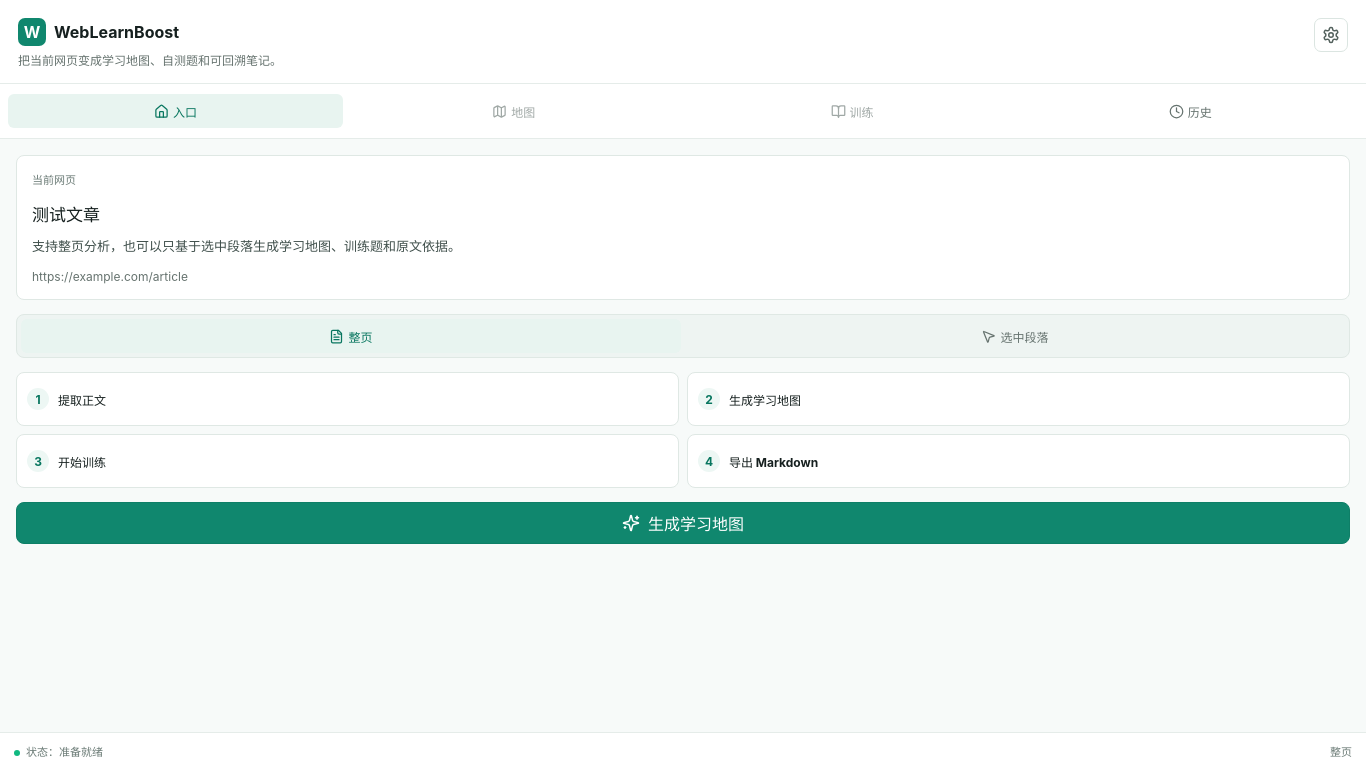
AppView learning flow › deletes a single history version
The width and height of the screenshot is (1366, 768).
Click the button "历史" at (1190, 111), box [1023,94,1358,128]
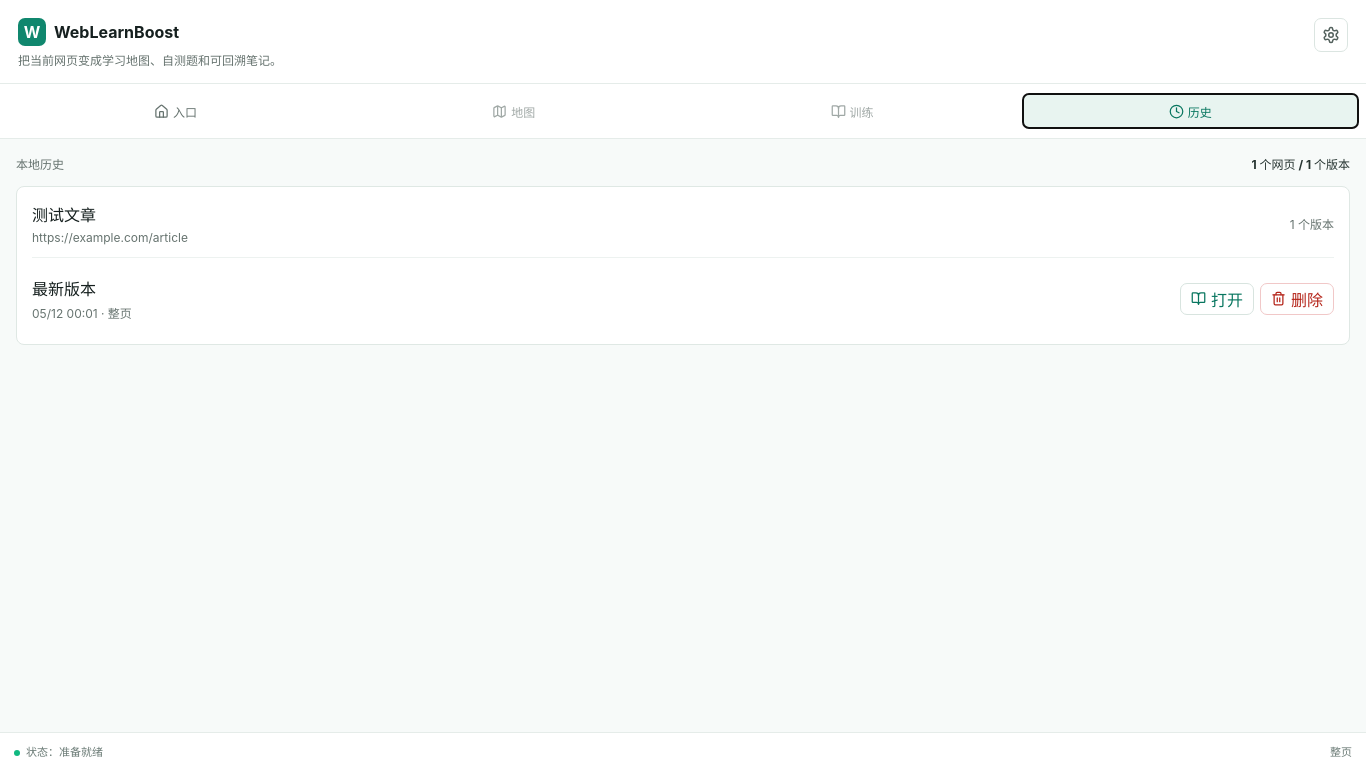
Expected: the text "测试文章" is shown, [32,205,96,225]
Click the button with aria-label "删除 测试文章" at (1297, 299), box [1260,283,1334,315]
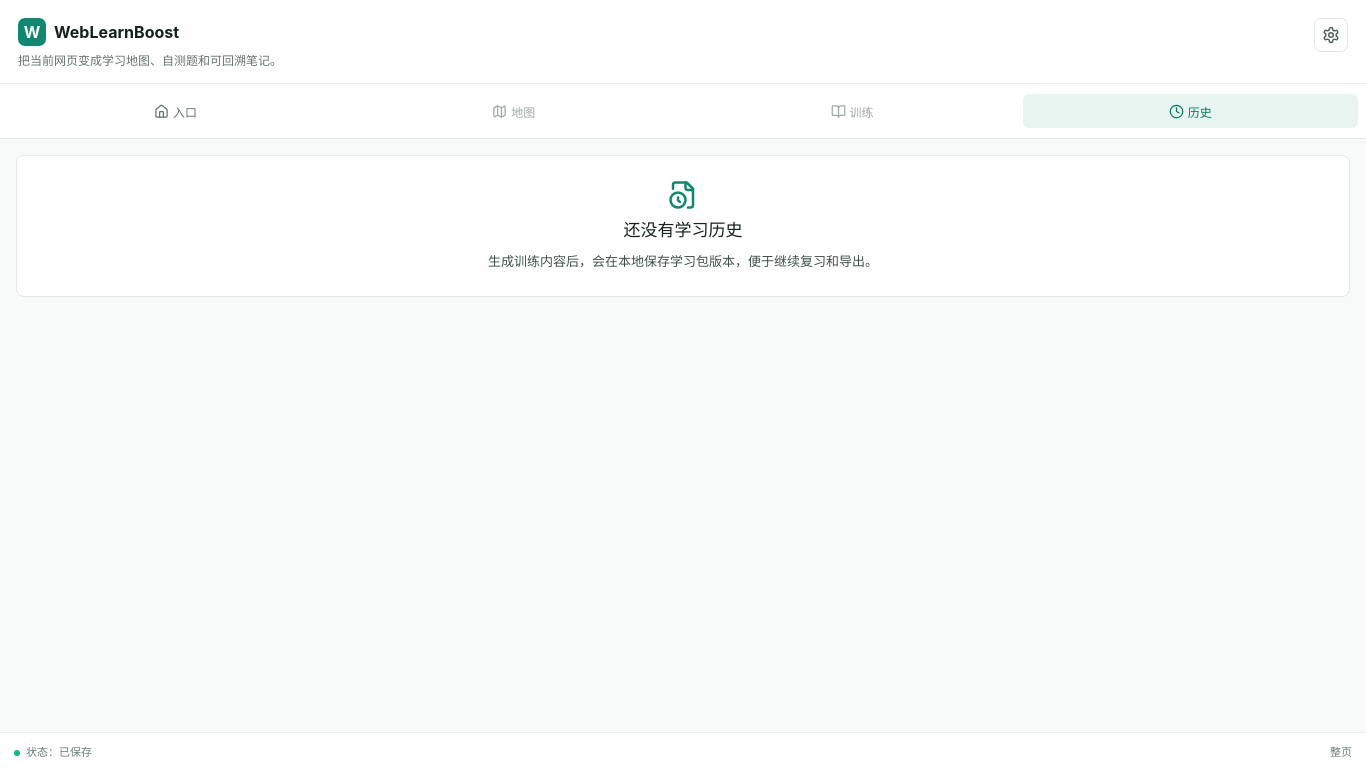
Expected: the heading "还没有学习历史" is shown, [624,218,742,243]
